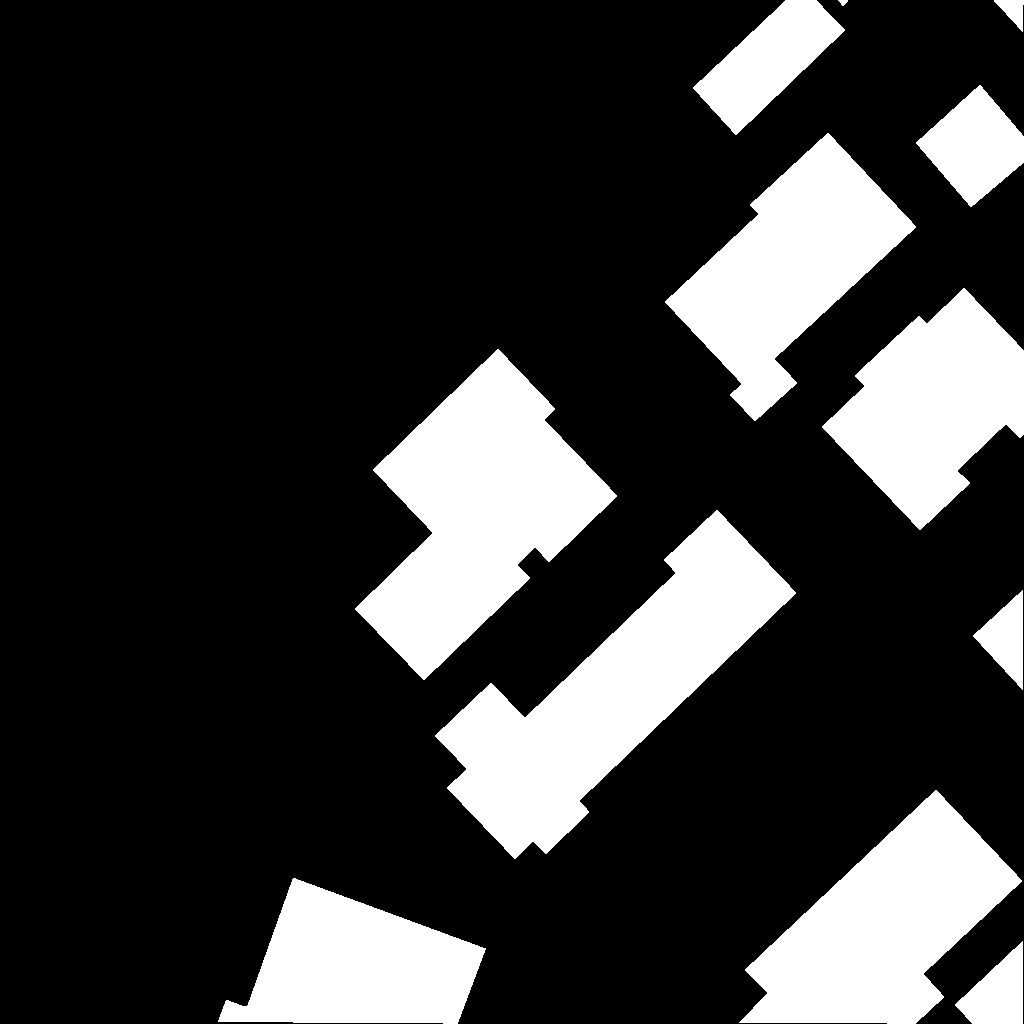building: (435, 510, 797, 860), (355, 349, 618, 681), (665, 133, 917, 422), (739, 790, 1023, 1024), (822, 288, 1024, 531), (218, 878, 487, 1024), (693, 0, 846, 136), (916, 85, 1024, 208), (955, 941, 1024, 1024), (973, 590, 1024, 691), (993, 0, 1024, 33), (838, 0, 850, 7)
